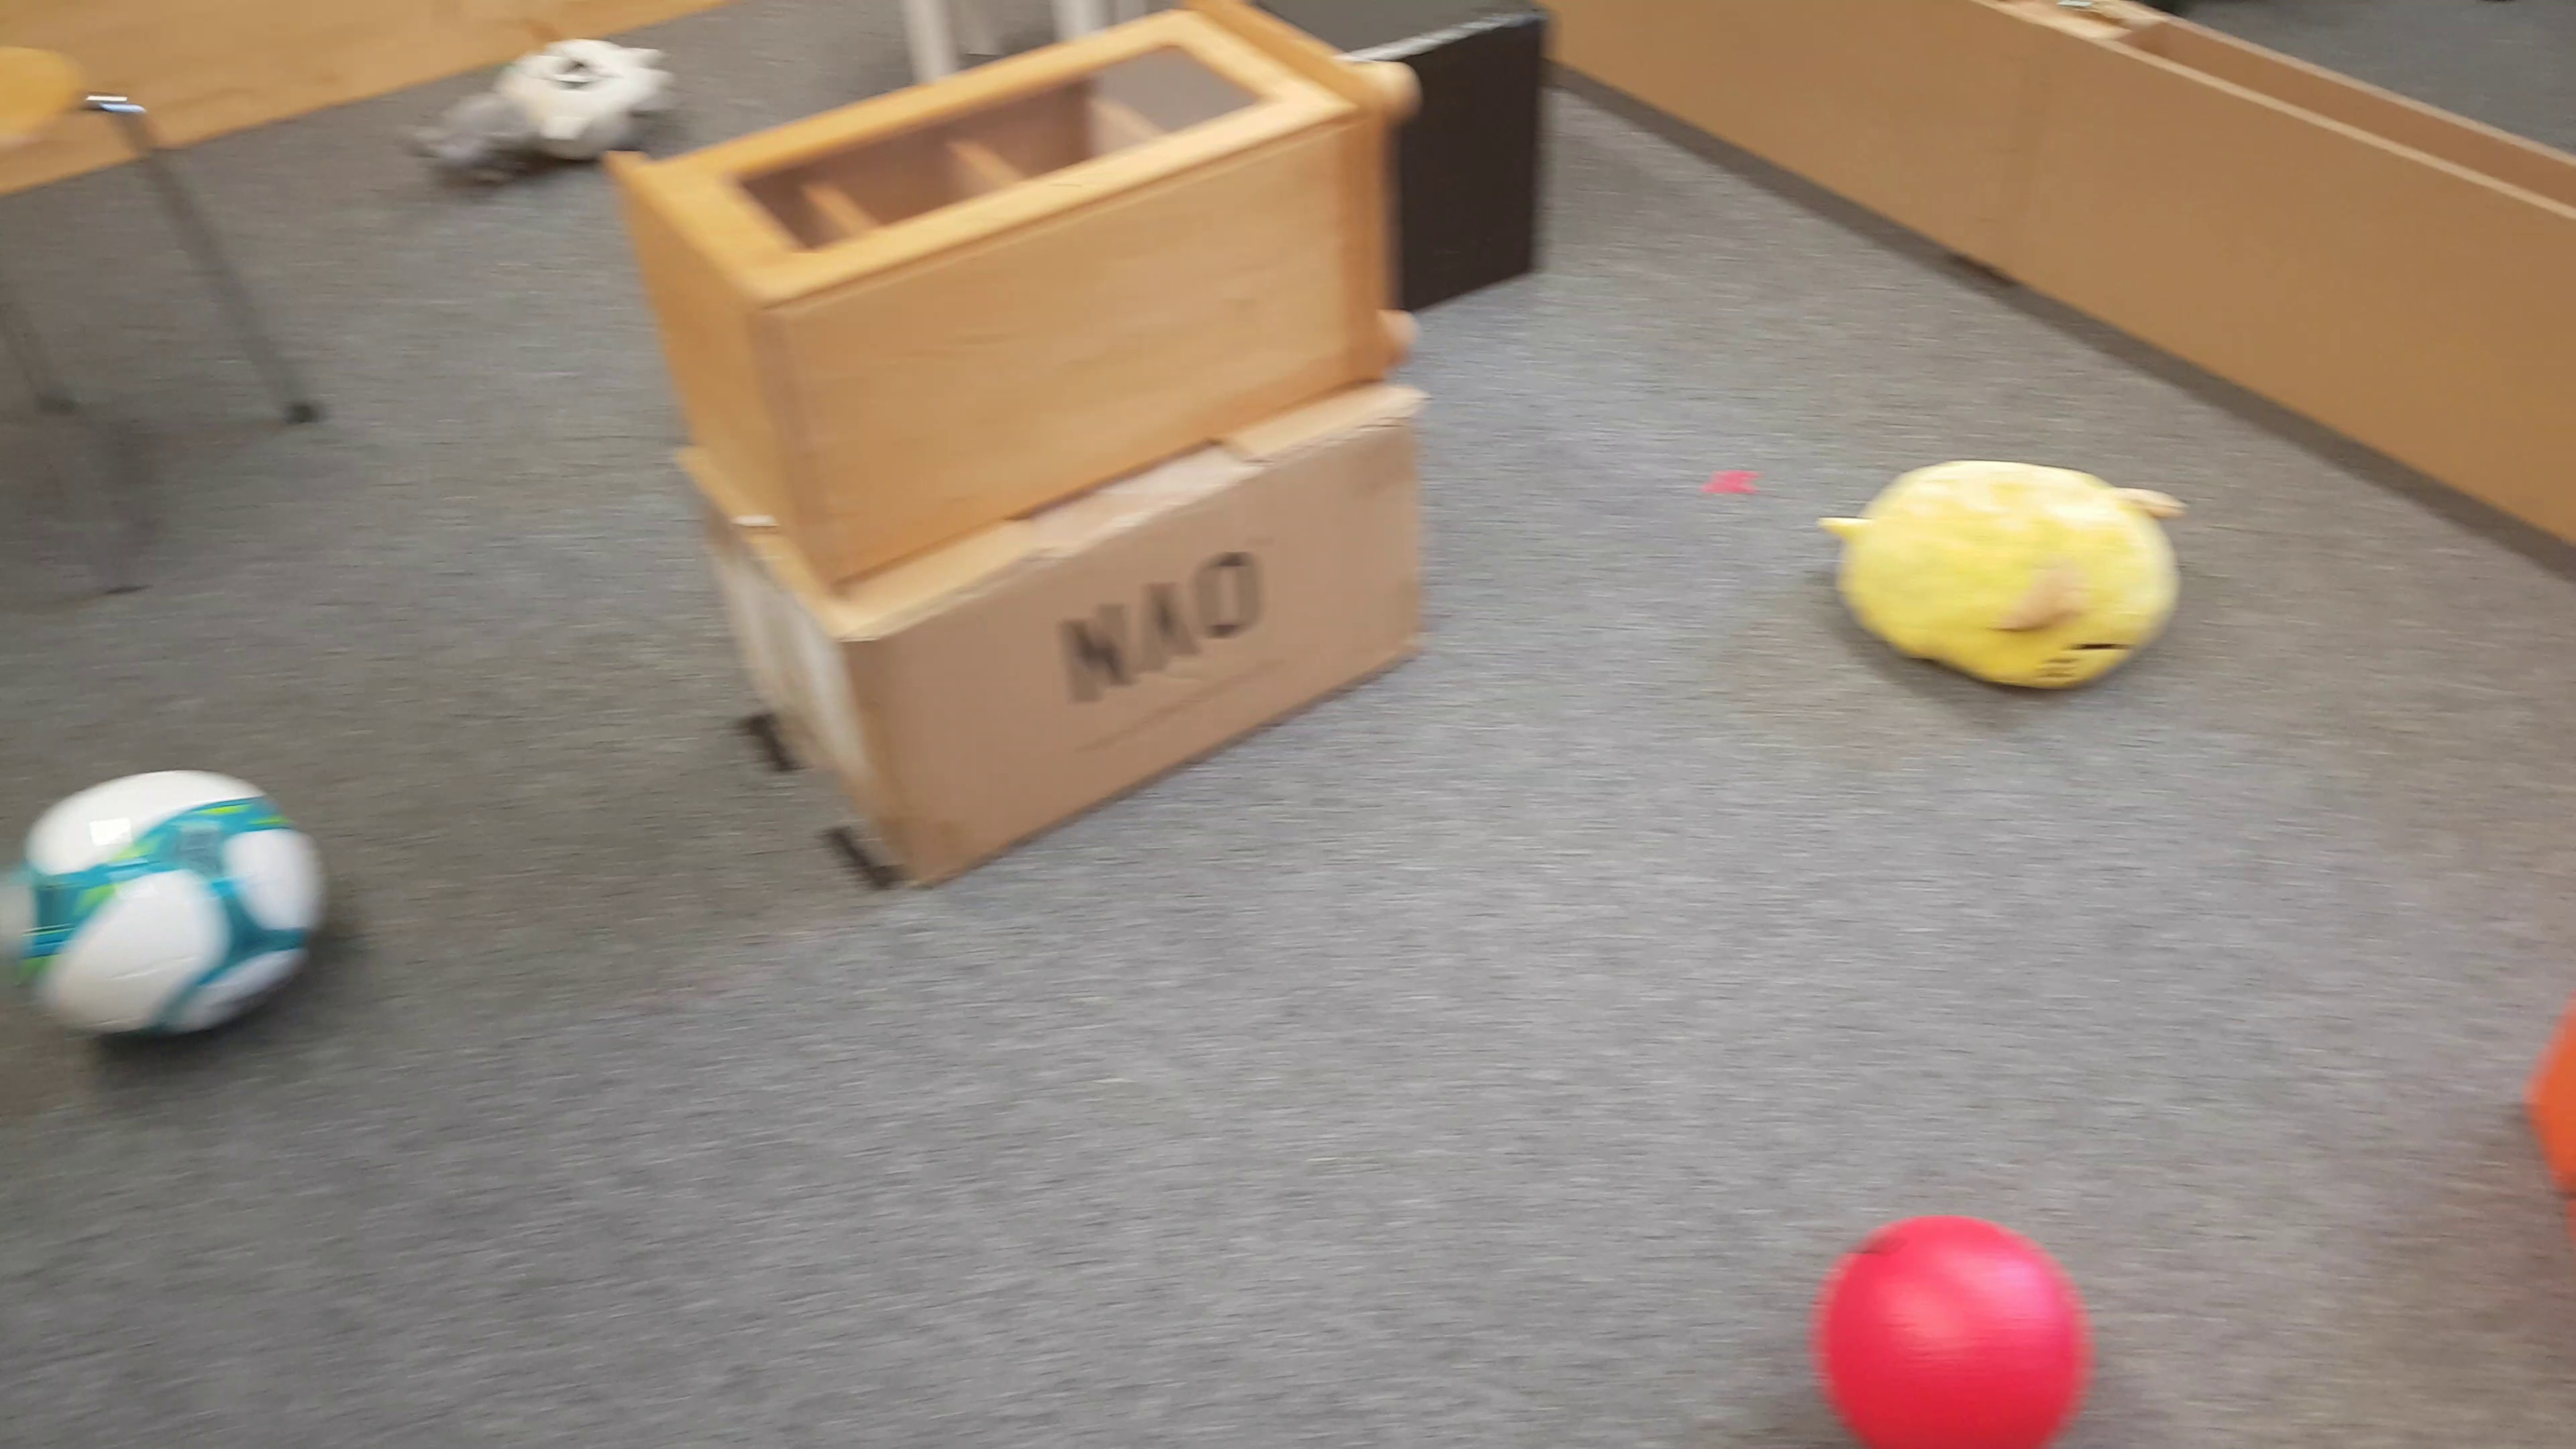grasp: (1822, 453, 2181, 699), (402, 34, 667, 145)
kick: (7, 770, 318, 1053), (1819, 1214, 2082, 1449)
push: (1421, 11, 1555, 311), (2534, 977, 2576, 1210)
